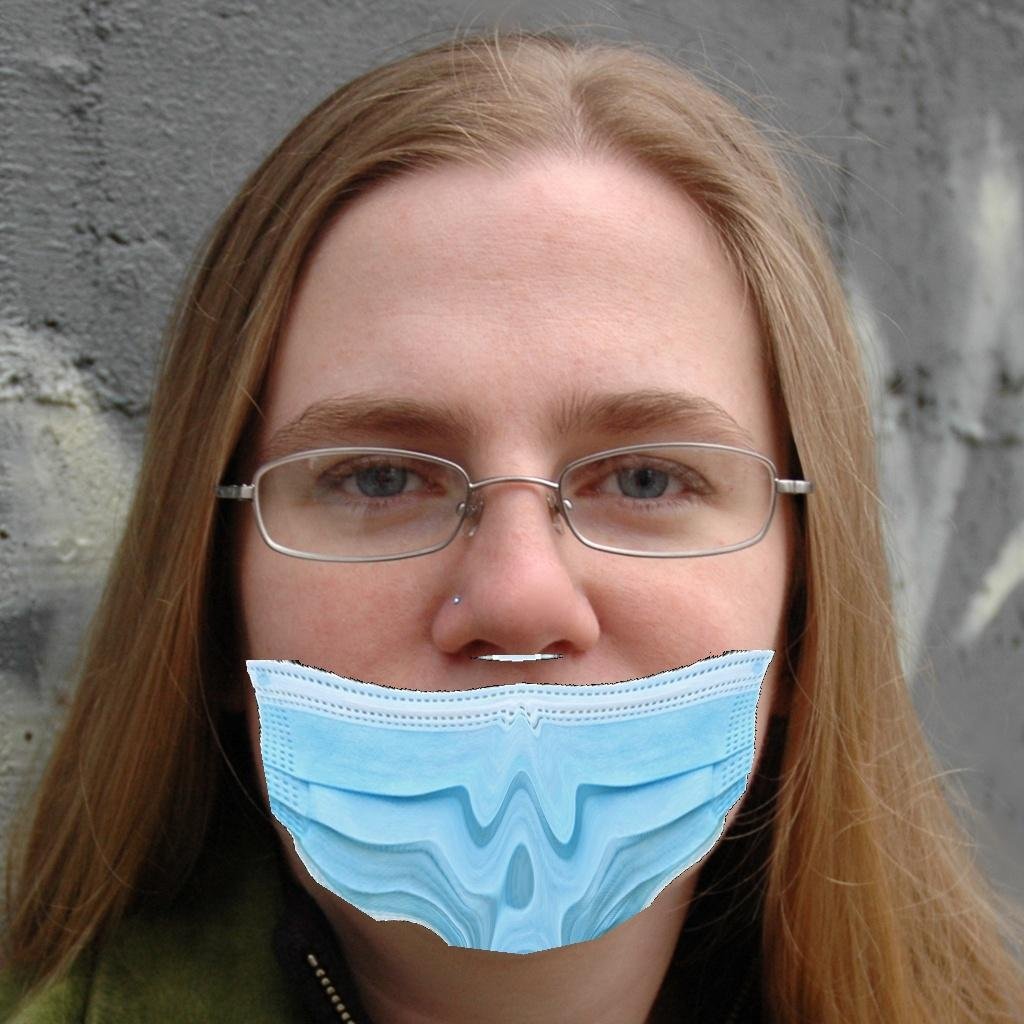Máscara Incorreta: (238, 221, 769, 936)
